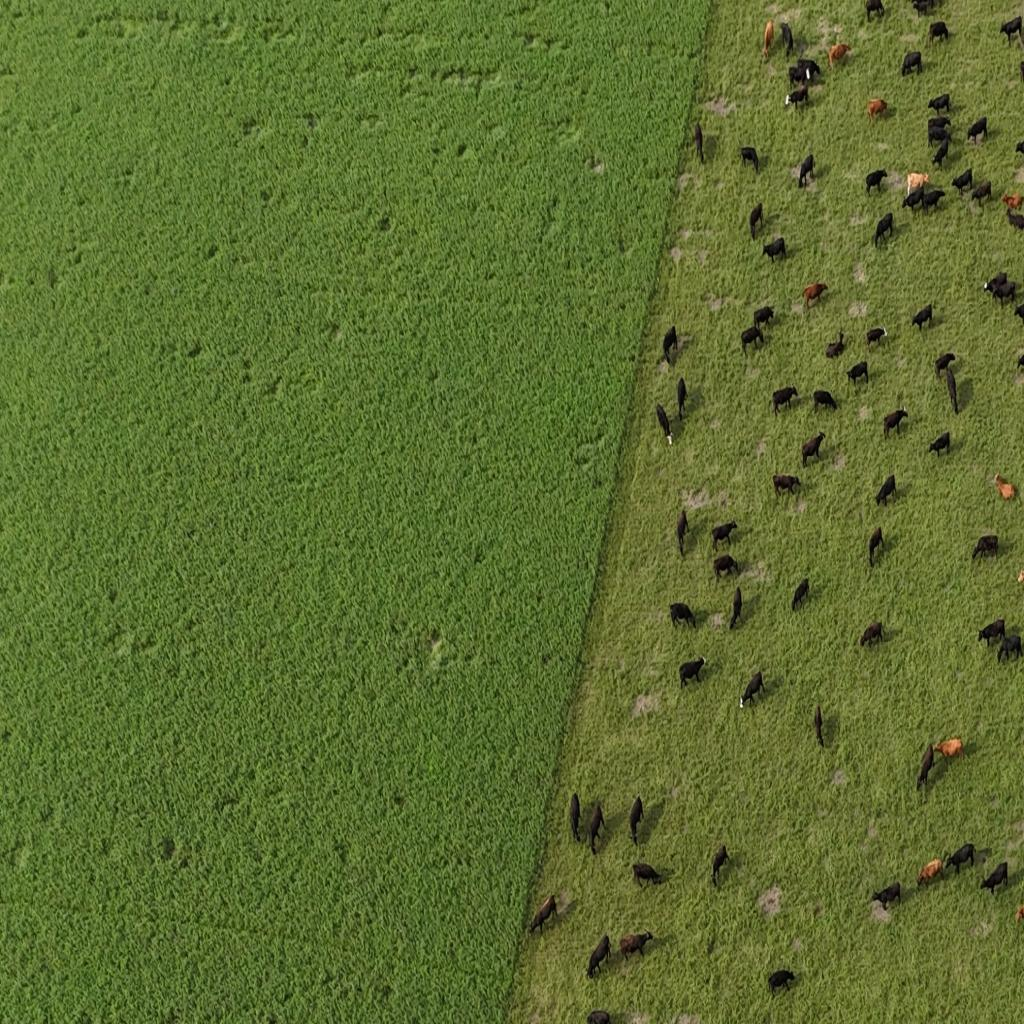cow: (528, 895, 558, 936), (586, 932, 611, 978), (619, 932, 654, 963), (944, 842, 976, 875), (980, 860, 1008, 896), (588, 800, 606, 854), (740, 670, 764, 710), (679, 656, 706, 688), (917, 742, 935, 790), (871, 882, 901, 910), (996, 634, 1024, 663), (978, 619, 1005, 649), (712, 554, 739, 584), (771, 388, 798, 418), (711, 521, 738, 551), (802, 433, 826, 466), (669, 602, 696, 631), (632, 862, 662, 888), (992, 278, 1018, 308), (883, 408, 908, 439), (773, 472, 800, 500), (767, 969, 796, 995), (918, 858, 944, 887), (875, 474, 897, 508), (972, 533, 998, 561), (934, 737, 963, 762), (999, 16, 1023, 46), (656, 402, 672, 446), (741, 324, 763, 356), (629, 795, 643, 845), (921, 187, 946, 215), (712, 844, 728, 886), (803, 281, 827, 309), (868, 526, 884, 567), (874, 212, 893, 246), (860, 620, 883, 648), (763, 236, 786, 264), (906, 172, 929, 200), (676, 507, 689, 556), (792, 577, 810, 612), (796, 58, 821, 83), (828, 42, 851, 69), (993, 473, 1016, 500), (934, 351, 956, 379), (865, 168, 887, 196), (911, 304, 933, 332), (928, 118, 950, 146), (903, 186, 925, 214), (798, 154, 816, 188), (813, 389, 838, 413), (729, 586, 742, 632), (846, 361, 869, 387), (786, 83, 808, 110), (569, 793, 581, 842), (946, 366, 958, 414), (932, 138, 950, 170), (928, 431, 950, 457), (753, 305, 775, 331), (966, 118, 988, 144), (825, 332, 845, 360), (985, 272, 1010, 294), (901, 51, 922, 77), (663, 325, 678, 361), (952, 170, 972, 197), (970, 181, 991, 206), (740, 146, 758, 174), (866, 325, 887, 349), (928, 21, 949, 45), (867, 98, 888, 122), (750, 201, 763, 239), (814, 704, 825, 748), (928, 93, 950, 115), (763, 19, 774, 63), (1000, 192, 1024, 212), (1004, 207, 1024, 231), (788, 64, 808, 87), (693, 122, 704, 163), (677, 375, 687, 419), (864, 0, 884, 22), (910, 0, 935, 17), (780, 21, 792, 56), (586, 1009, 610, 1024), (1017, 302, 1024, 330), (1019, 140, 1024, 158)
